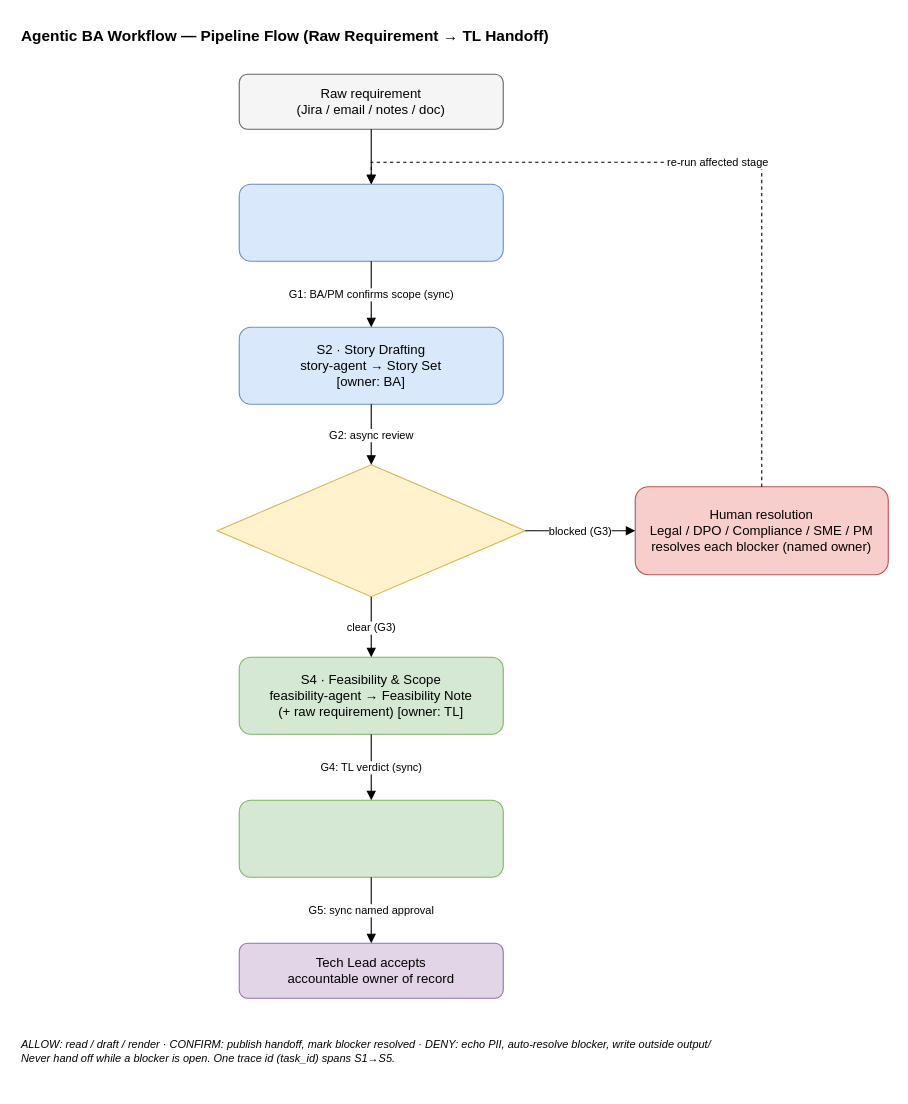
Some shapes in this 908 by 1104 pixel diagram are drawn without their labels. Here are the shapes that lost their labels. From the top down, the box of each, then its label:
(238, 183, 503, 261): S1 · Intake & Scope intake-agent → Scope Sheet [owner: BA]
(216, 464, 525, 597): S3 · Governance & Risk governance-agent clear | blocked
(238, 799, 503, 877): S5 · TL Handoff Bundle = raw req + 4 contracts [owner: TL]
